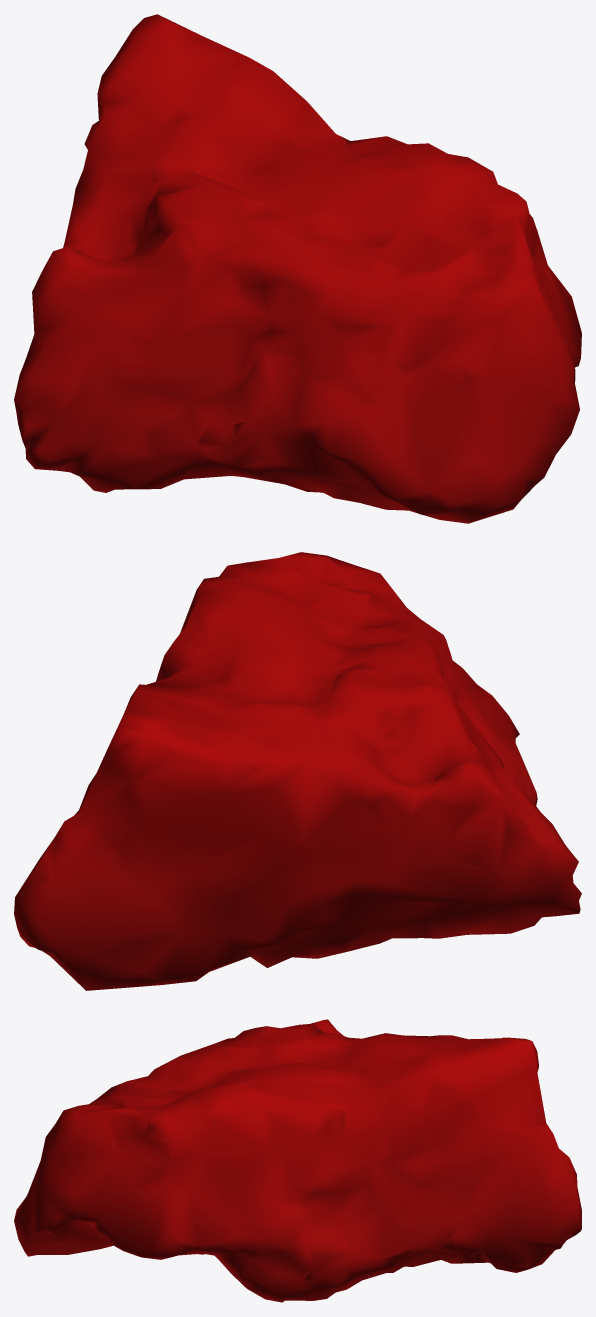
File: mossrock_a_06.glb
3 views of the same model, one above another, from view 1: azimuth 30°, elevation 25°; view 2: azimuth 150°, elevation 25°; view 3: azimuth 270°, elevation 25° (orthographic). The views are drawn at different scales.
Visible parts, largest first — view 1: LOD0; view 2: LOD0; view 3: LOD0.
Boxes of the visible parts, left/top/right/bottom form: LOD0: left=14, top=14, right=581, bottom=523; LOD0: left=14, top=552, right=581, bottom=990; LOD0: left=14, top=1019, right=581, bottom=1302.
Size of what is drawn, in the model's own units: 2.13 by 1.26 by 2.75.
